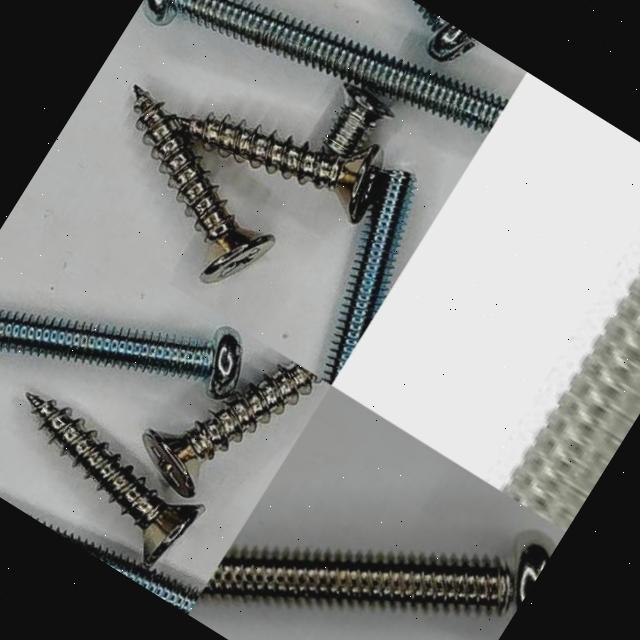Screw: (143, 0, 509, 134), (498, 263, 640, 532), (24, 393, 202, 568), (199, 531, 553, 612), (131, 85, 273, 284), (141, 361, 321, 498), (175, 115, 382, 223), (0, 310, 242, 399), (321, 170, 413, 385), (322, 83, 393, 158), (412, 0, 477, 61)
